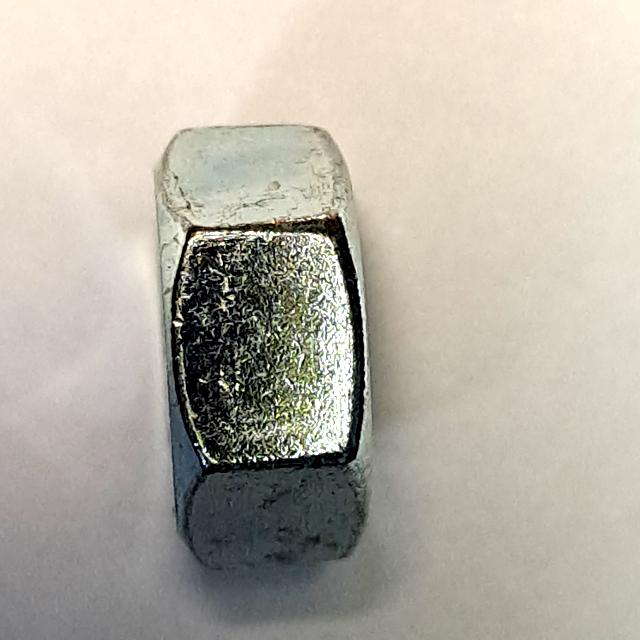Side_Excellent: (128, 104, 402, 590)
